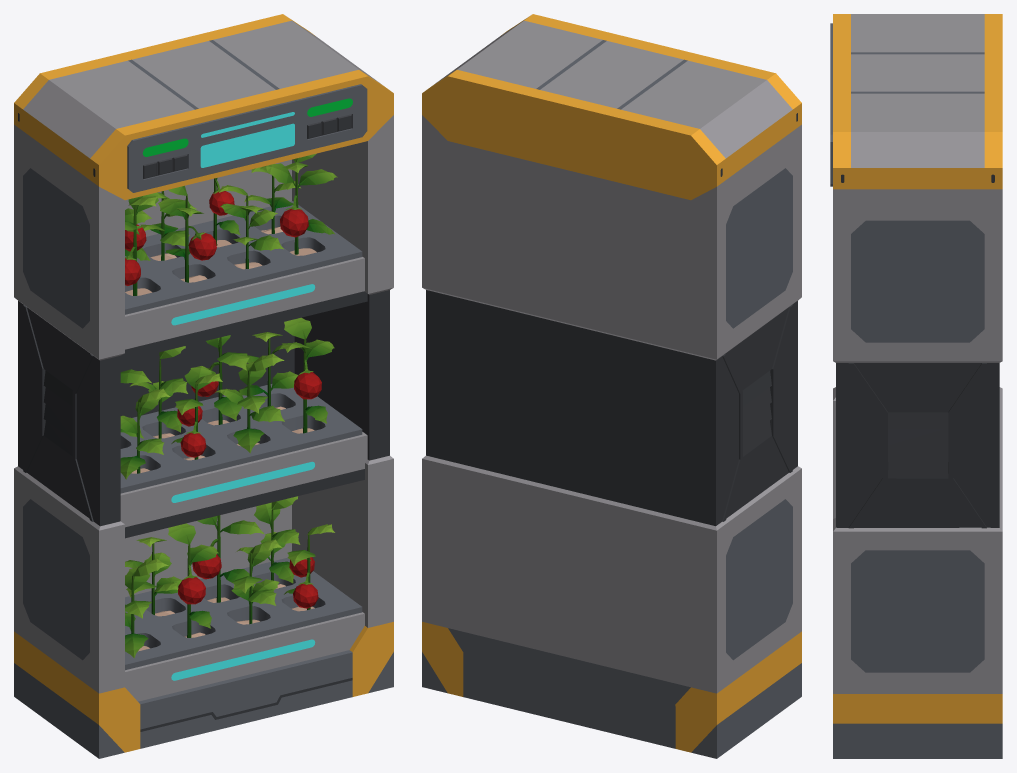
File: SM_Props_Agro_03.fbx
3 views of the same model, side by side, from view 1: azimuth 30°, elevation 25°; view 2: azimuth 150°, elevation 25°; view 3: azimuth 270°, elevation 25° (orthographic).
Parts seen in each view (by area): view 1: SM_Props_Agro_03_LOD0; view 2: SM_Props_Agro_03_LOD0; view 3: SM_Props_Agro_03_LOD0.
Part boxes in pixels (x1=…): SM_Props_Agro_03_LOD0: x1=14, y1=14, x2=393, y2=758; SM_Props_Agro_03_LOD0: x1=422, y1=14, x2=801, y2=758; SM_Props_Agro_03_LOD0: x1=830, y1=14, x2=1002, y2=758.
Bounding box in the file's own units: 100 × 200 × 50.79.
